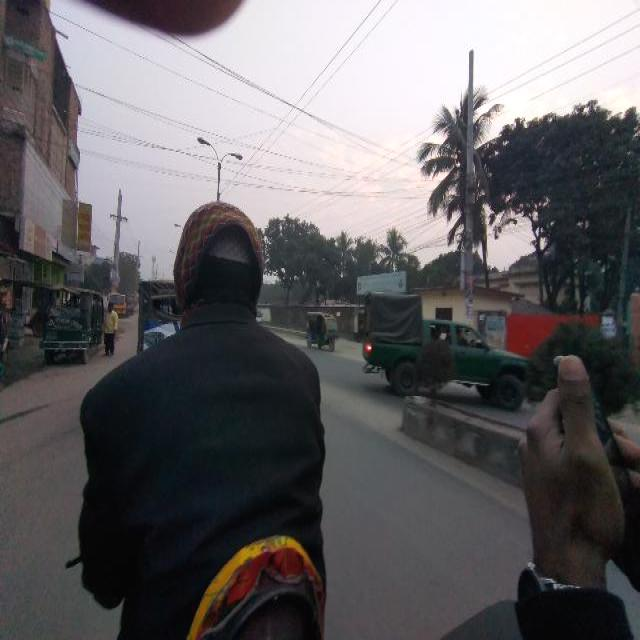CMT: (362, 319, 526, 409)
TRUCK: (36, 286, 101, 364)
